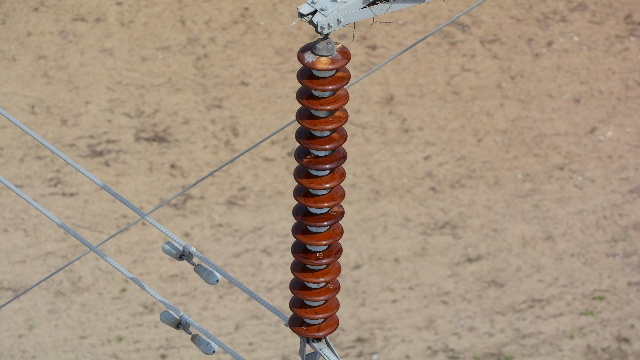insulator_unspecified: (289, 40, 352, 341)
pollution_flashover_local: (313, 56, 332, 70), (335, 88, 348, 97), (330, 132, 342, 141), (333, 110, 346, 118), (331, 205, 343, 213), (337, 71, 349, 78)
